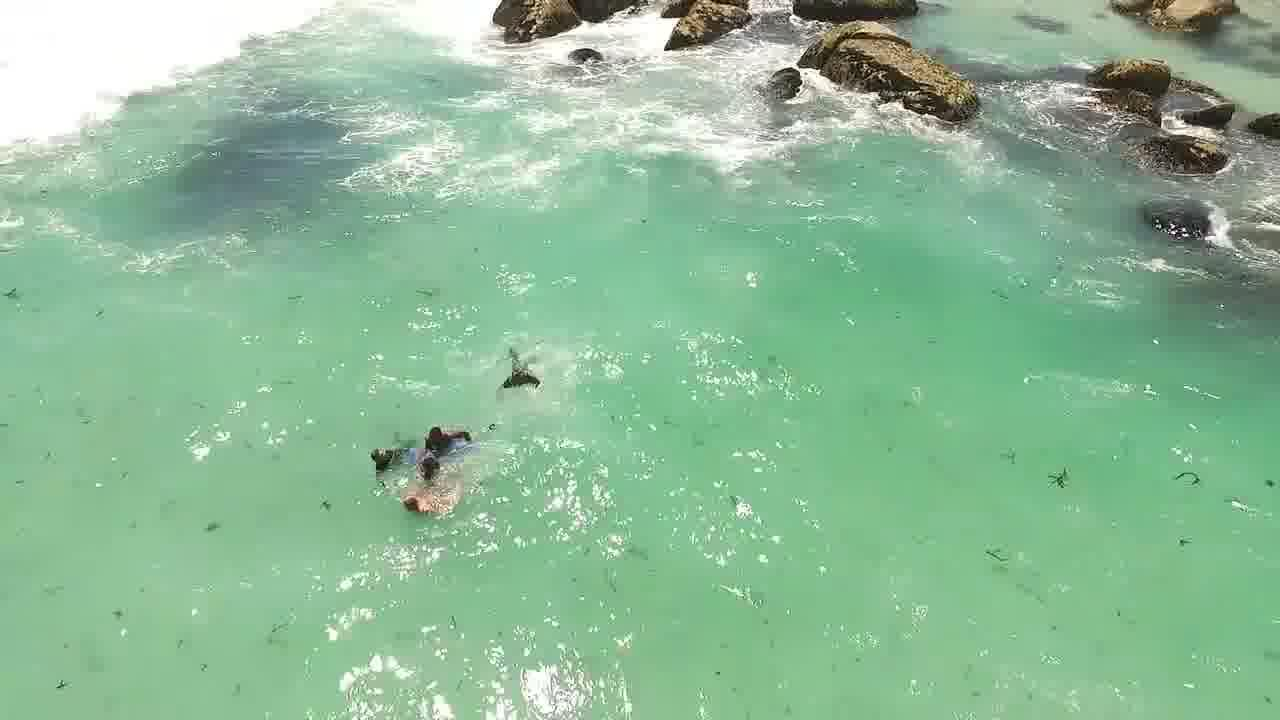human: (484, 349, 549, 399), (416, 410, 482, 459), (390, 481, 465, 524), (355, 435, 413, 478), (401, 446, 455, 487)
